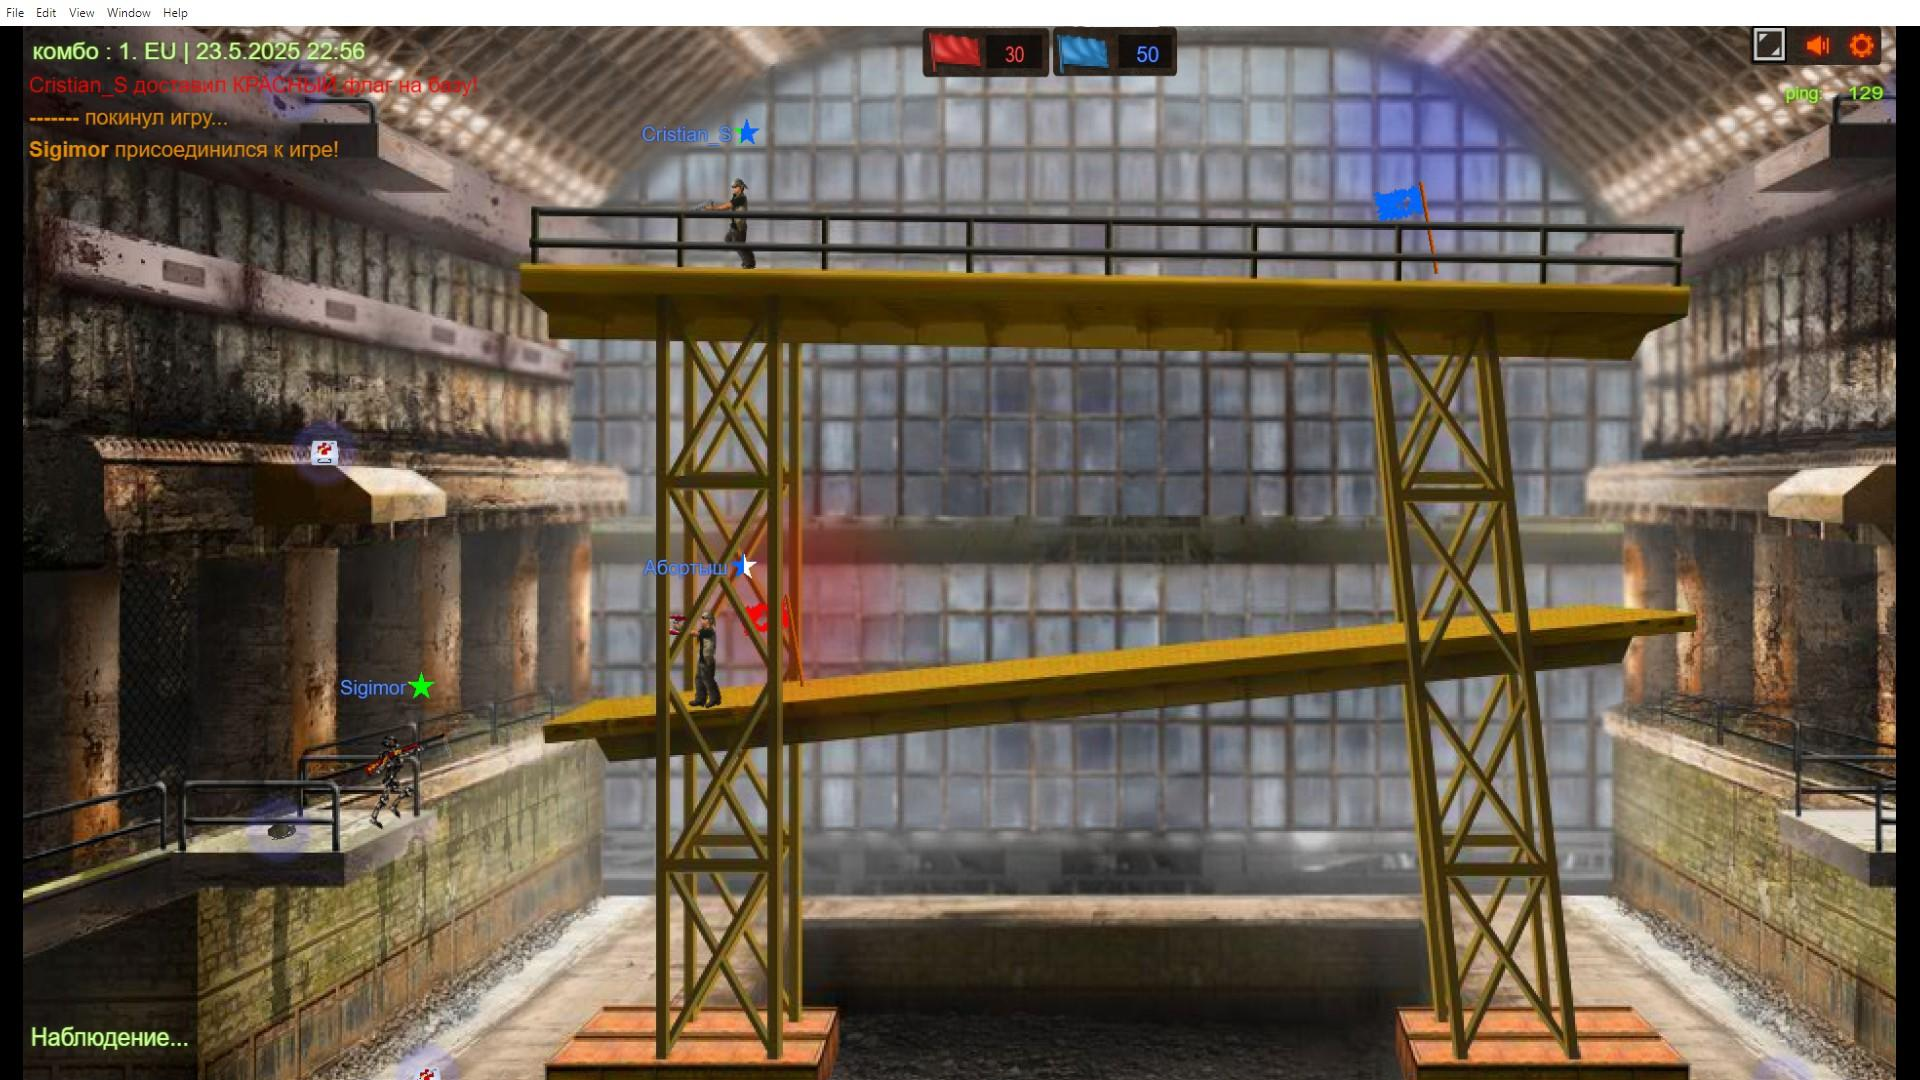enemy: (364, 724, 443, 836), (663, 603, 727, 715), (696, 174, 764, 278)
